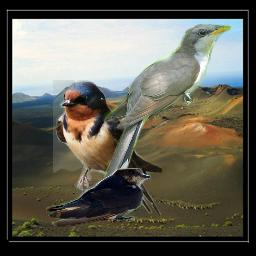Cuckoo: (100, 24, 231, 193)
Swallow: (53, 80, 162, 217), (46, 168, 151, 227)
